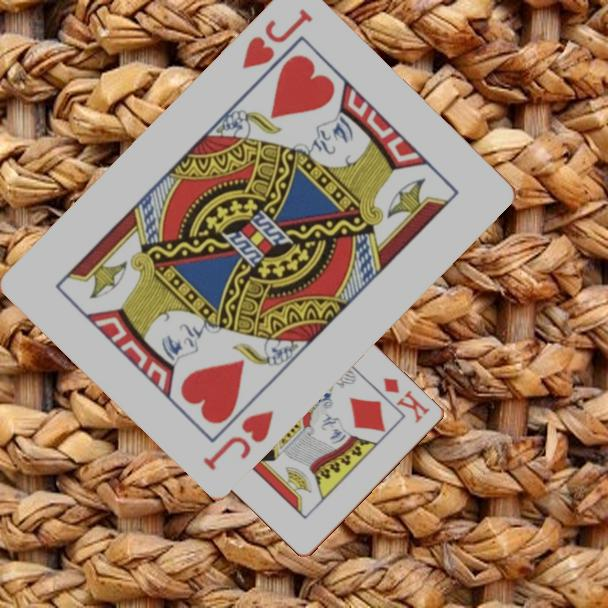d13: (380, 374, 433, 426)
h11: (238, 4, 316, 72), (199, 406, 277, 473)
